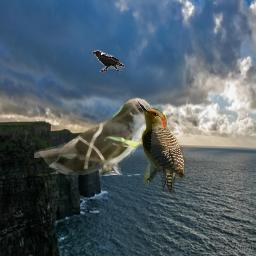Crow: (92, 50, 125, 73)
Cuckoo: (34, 97, 163, 175)
Woodpecker: (137, 101, 185, 194)
